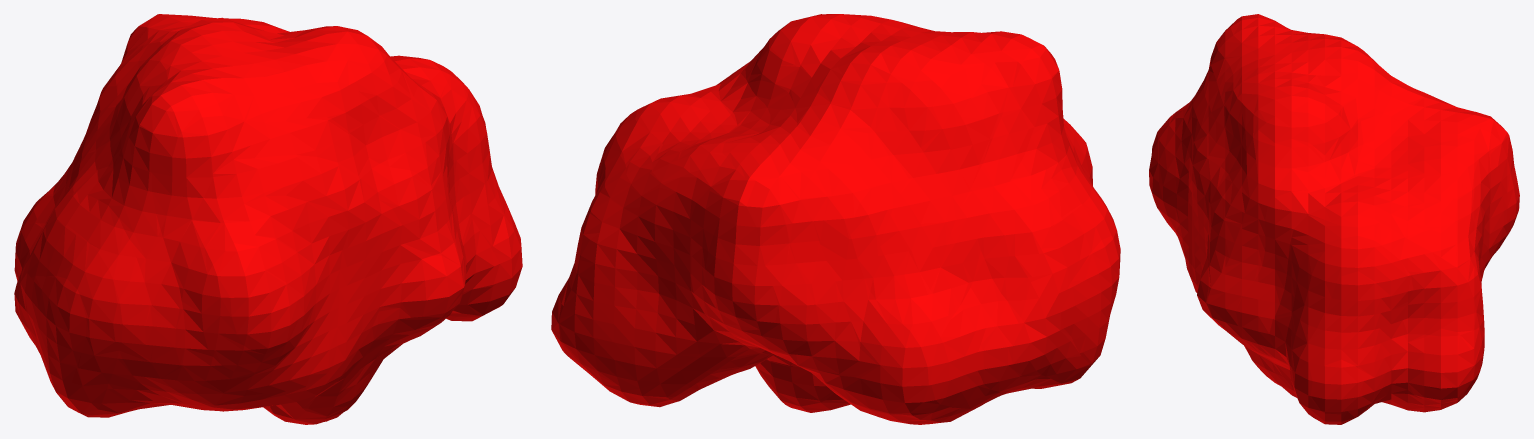
File: coaD_coarse.dae
The picture shows the model from 3 angles, left to right: view 1: azimuth 30°, elevation 25°; view 2: azimuth 150°, elevation 25°; view 3: azimuth 270°, elevation 25°; orthographic projection. The views are drawn at different scales.
Parts seen in each view (by area): view 1: coaD; view 2: coaD; view 3: coaD.
Boxes of the visible parts, box(x1,y1,x2,y2) form: coaD: box(14, 14, 522, 424); coaD: box(551, 14, 1120, 424); coaD: box(1149, 14, 1519, 424).
Bounding box in the file's own units: 50.83 × 39.3 × 41.41.
